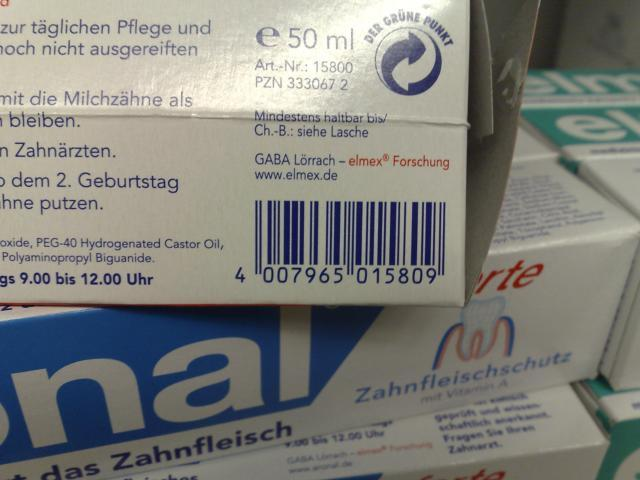Barcode: (230, 190, 456, 295)
